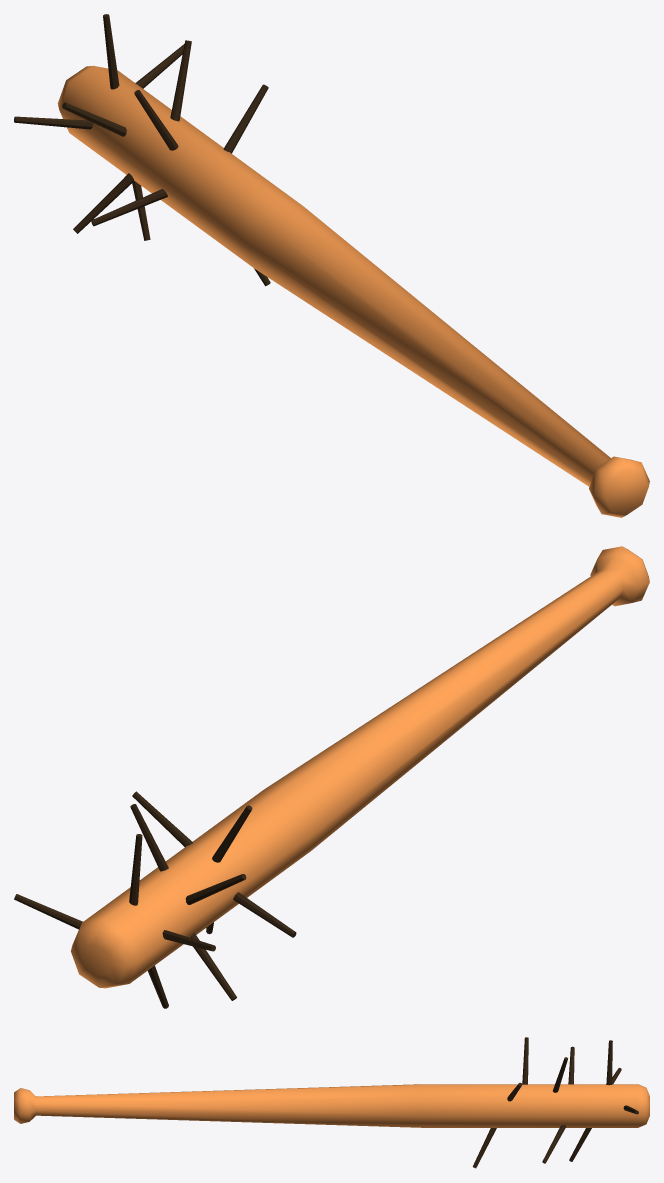
Rendered from BaseballBat_02.fbx.
3 views of the same model, one above another, from view 1: azimuth 30°, elevation 25°; view 2: azimuth 150°, elevation 25°; view 3: azimuth 270°, elevation 25° (orthographic). The views are drawn at different scales.
Visible parts, largest first — view 1: BaseballBat_02; view 2: BaseballBat_02; view 3: BaseballBat_02.
Part boxes in pixels (<box>): BaseballBat_02: <box>14,14,649,517</box>; BaseballBat_02: <box>14,546,649,1008</box>; BaseballBat_02: <box>14,1037,649,1168</box>.
Size of the model in its own units: 28.48 by 28.72 by 139.
